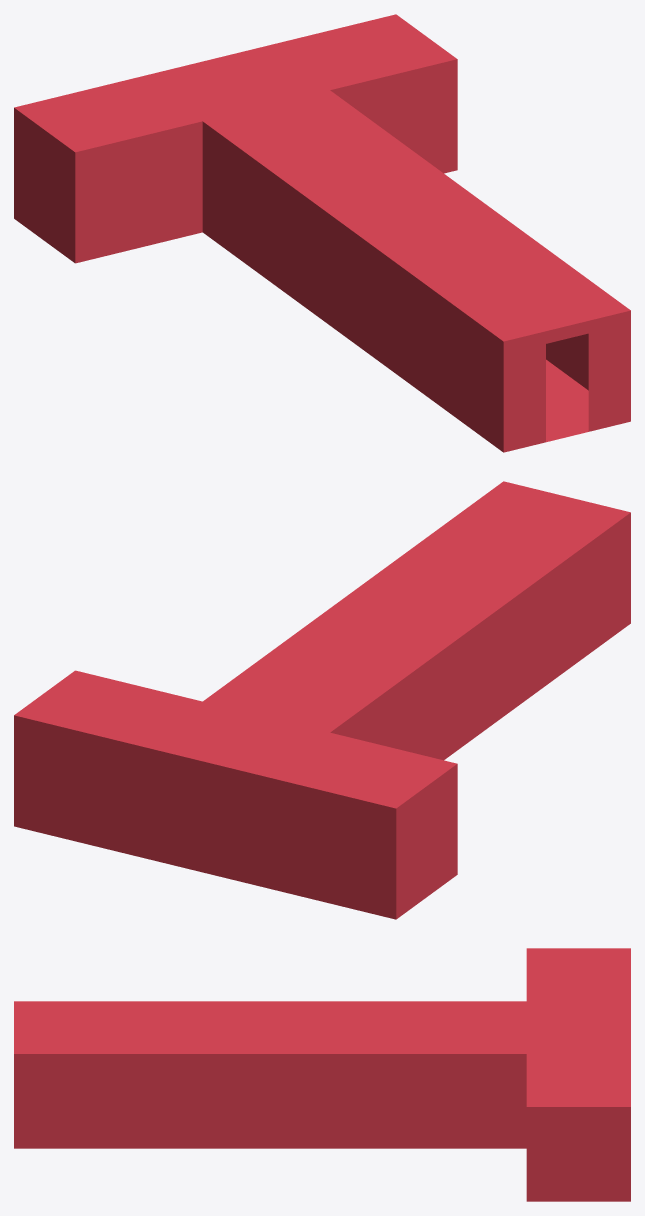
File: Room1.fbx
3 views of the same model, one above another, from view 1: azimuth 30°, elevation 25°; view 2: azimuth 150°, elevation 25°; view 3: azimuth 270°, elevation 25° (orthographic). The views are drawn at different scales.
Parts seen in each view (by area): view 1: Cube.011; view 2: Cube.011; view 3: Cube.011.
Part boxes in pixels (x1,y1,x2,y2): Cube.011: (14, 14, 630, 452); Cube.011: (14, 481, 630, 919); Cube.011: (14, 948, 630, 1201).
Bounding box in the file's own units: 7392 × 2053 × 12133.
